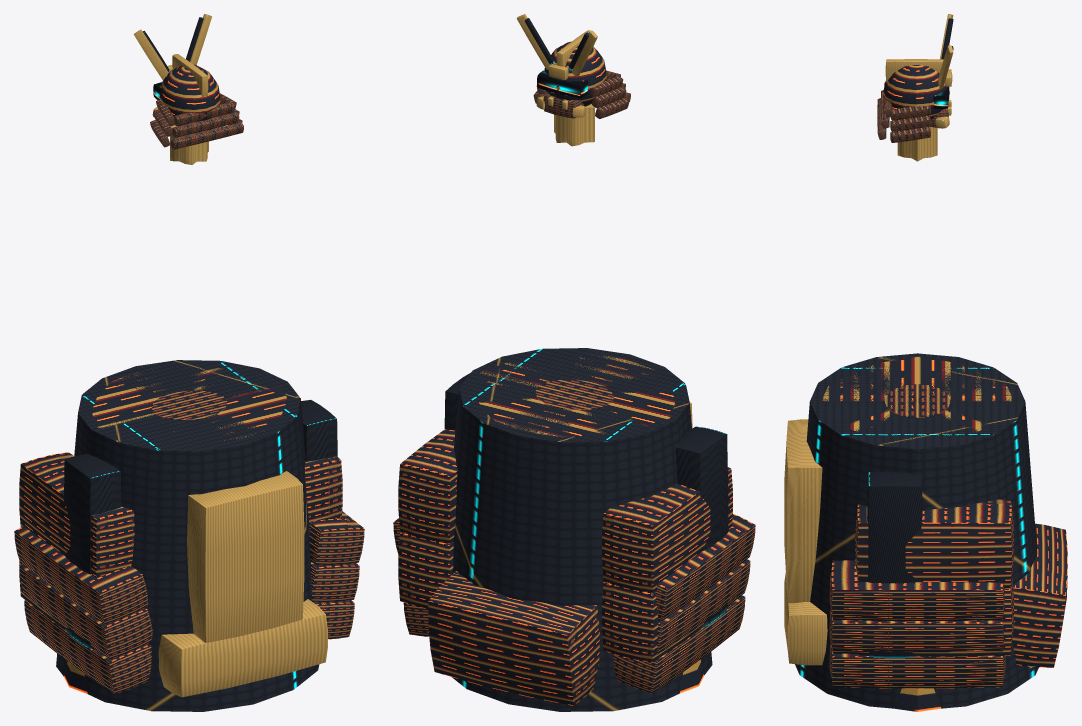
File: player_kit_eclipse_ronin_light.glb
The picture shows the model from 3 angles, left to right: view 1: azimuth 30°, elevation 25°; view 2: azimuth 150°, elevation 25°; view 3: azimuth 270°, elevation 25°; orthographic projection. The views are drawn at different scales.
Parts seen in each view (by area): view 1: LThigh, LUpperArm, LShin, LForearm, AvatarHead, RUpperArm, RThigh, RForearm, Jacket; view 2: LThigh, LShin, LUpperArm, LForearm, RThigh, AvatarHead, Jacket, RUpperArm, RForearm; view 3: LThigh, RUpperArm, LShin, RThigh, LUpperArm, AvatarHead, LForearm, RForearm, Jacket.
Part boxes in pixels (x1,y1,x2,y2): LThigh: (19, 360, 319, 711); LUpperArm: (14, 361, 298, 693); LShin: (92, 367, 304, 642); LForearm: (64, 366, 327, 697); AvatarHead: (133, 14, 243, 164); RUpperArm: (309, 511, 364, 639); RThigh: (304, 456, 342, 521); RForearm: (301, 400, 337, 461); Jacket: (151, 390, 227, 420); LThigh: (452, 348, 732, 711); LShin: (428, 355, 692, 705); LUpperArm: (469, 348, 755, 693); LForearm: (476, 354, 728, 693); RThigh: (398, 429, 457, 609); AvatarHead: (516, 14, 630, 146); Jacket: (535, 379, 613, 410); RUpperArm: (393, 518, 429, 636); RForearm: (444, 373, 470, 430); LThigh: (795, 353, 1038, 708); RUpperArm: (829, 560, 1005, 688); LShin: (784, 356, 1067, 667); RThigh: (855, 499, 1013, 656); LUpperArm: (810, 354, 1025, 447); AvatarHead: (877, 14, 953, 161); LForearm: (784, 357, 1013, 711); RForearm: (867, 471, 922, 658); Jacket: (884, 384, 950, 417).
Size of the model in its own units: 1.09 by 2.43 by 0.999.
Materials: 1 (1 with a texture image).
